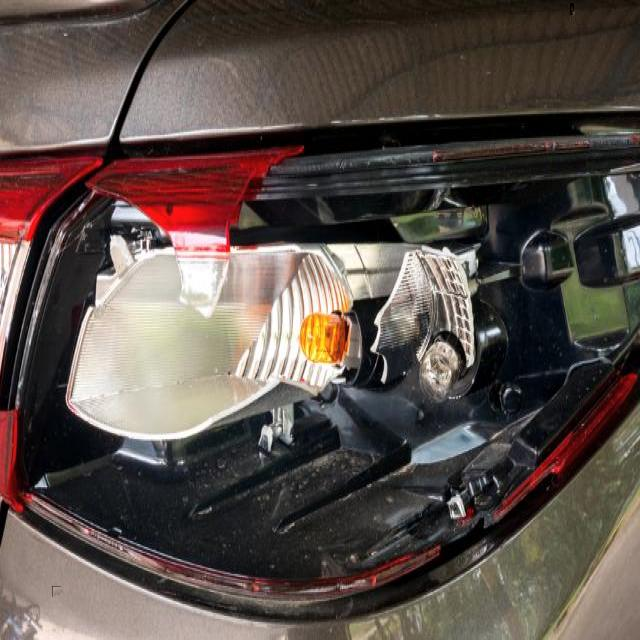Dent: (52, 586, 61, 597), (570, 3, 574, 15)
